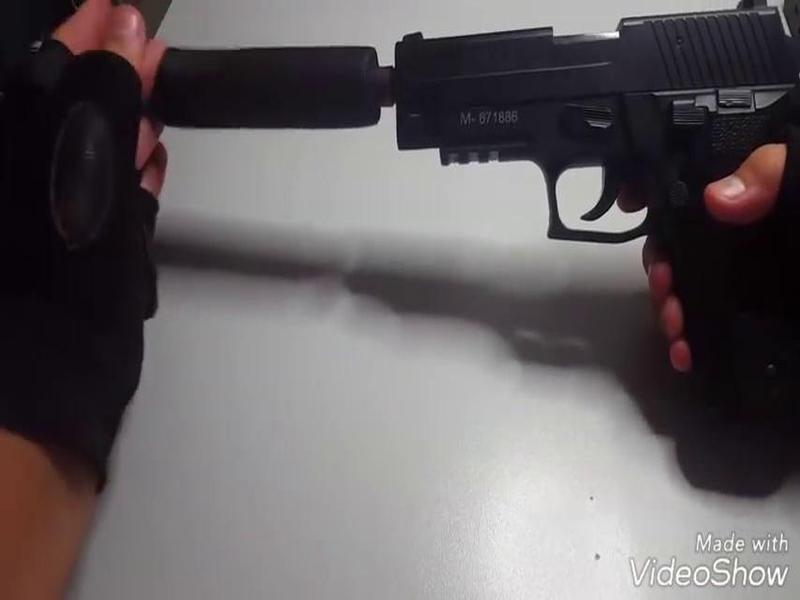Pistola: (392, 1, 800, 415)
